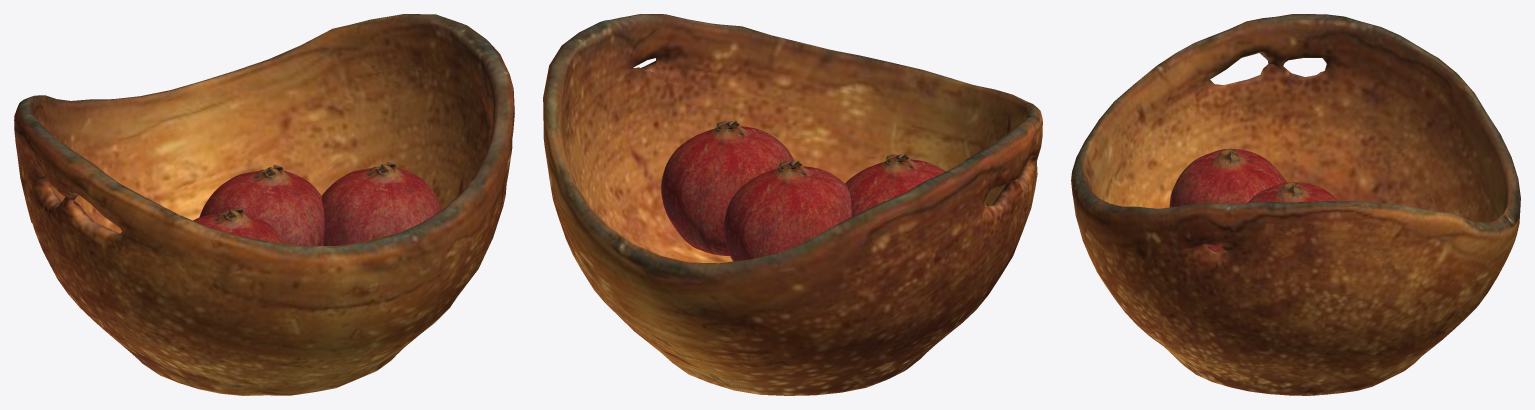
Rendered from decor__10.glb.
3 renders of one model, left to right at view 1: azimuth 30°, elevation 25°; view 2: azimuth 150°, elevation 25°; view 3: azimuth 270°, elevation 25°, orthographic. The views are drawn at different scales.
Visible parts, largest first — view 1: wooden_bowl_02.002, food_pomegranate_01.005, food_pomegranate_01.004, food_pomegranate_01.006; view 2: wooden_bowl_02.002, food_pomegranate_01.005, food_pomegranate_01.004, food_pomegranate_01.006; view 3: wooden_bowl_02.002, food_pomegranate_01.006, food_pomegranate_01.004.
Boxes of the visible parts, x1,y1,x2,y2 form: wooden_bowl_02.002: (14, 14, 514, 395); food_pomegranate_01.005: (321, 162, 441, 245); food_pomegranate_01.004: (199, 165, 324, 246); food_pomegranate_01.006: (193, 207, 284, 243); wooden_bowl_02.002: (543, 14, 1042, 395); food_pomegranate_01.005: (661, 120, 794, 255); food_pomegranate_01.004: (723, 160, 851, 261); food_pomegranate_01.006: (845, 153, 945, 216); wooden_bowl_02.002: (1071, 14, 1520, 395); food_pomegranate_01.006: (1169, 148, 1286, 207); food_pomegranate_01.004: (1247, 181, 1337, 203).
Bounding box in the file's own units: 0.3 × 0.1678 × 0.2858.
2 materials, 2 textured.
